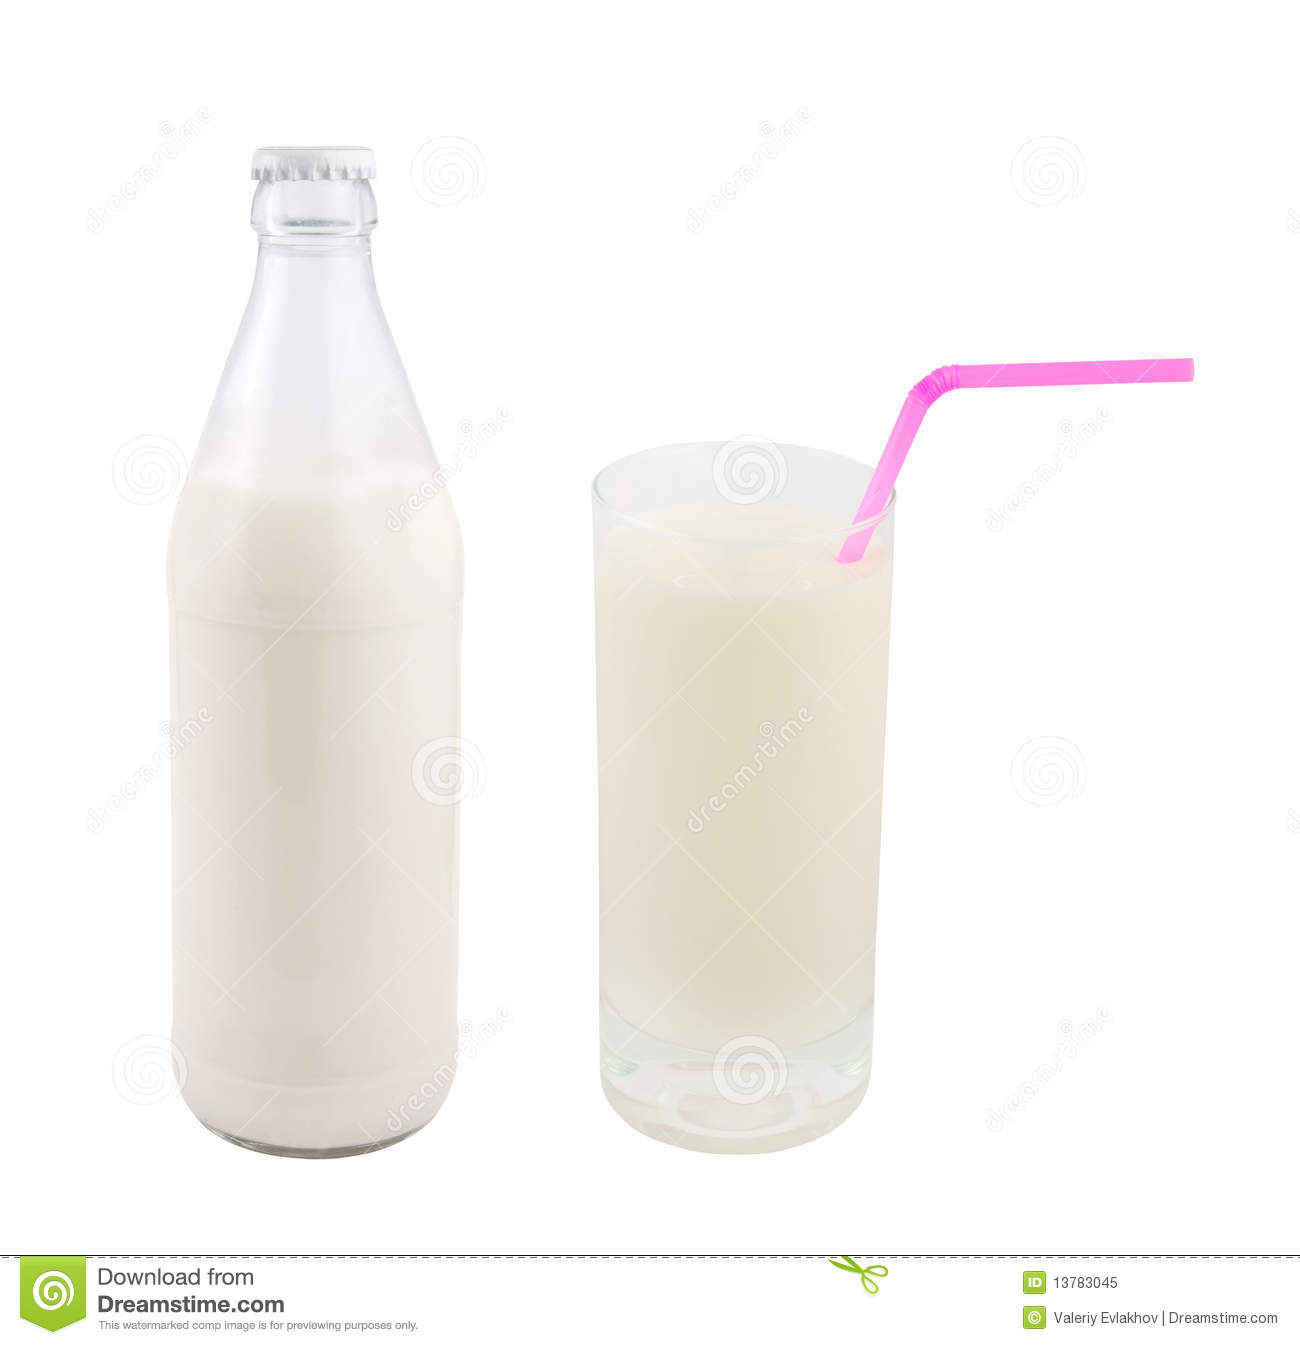glass of milk: (182, 369, 473, 1165), (580, 482, 910, 1132)
